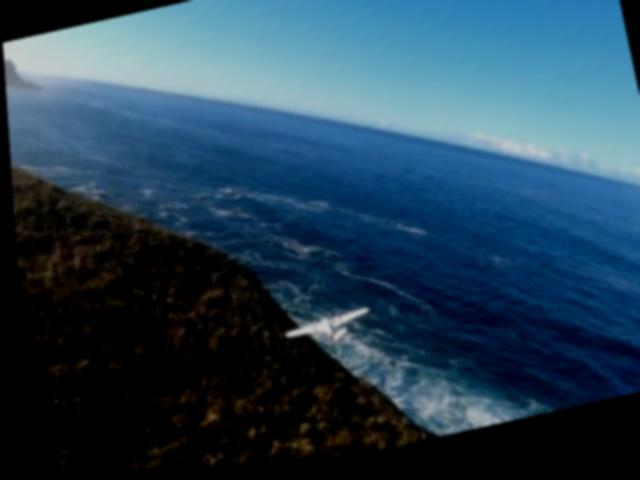uav: (278, 306, 369, 358)
